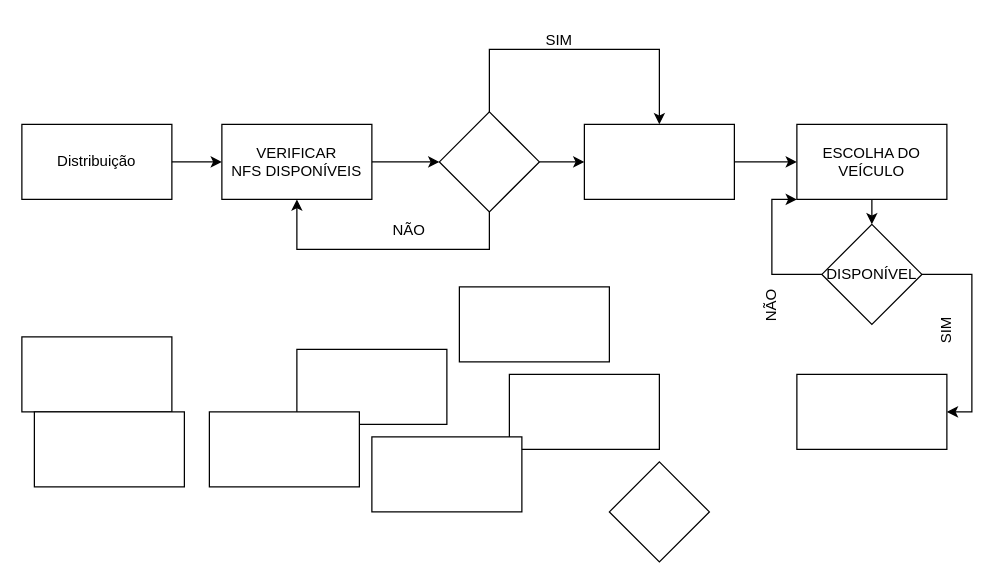
This 1004x584 diagram has some shape labels left out. The shapes that lost their labels are listed below. From the top down, each one's box as (x1, y1, x2, y2) in pixels, then its label:
(583, 123, 734, 199): Roteirização
(796, 373, 947, 449): CRIAÇÃO DA VIAGEM
